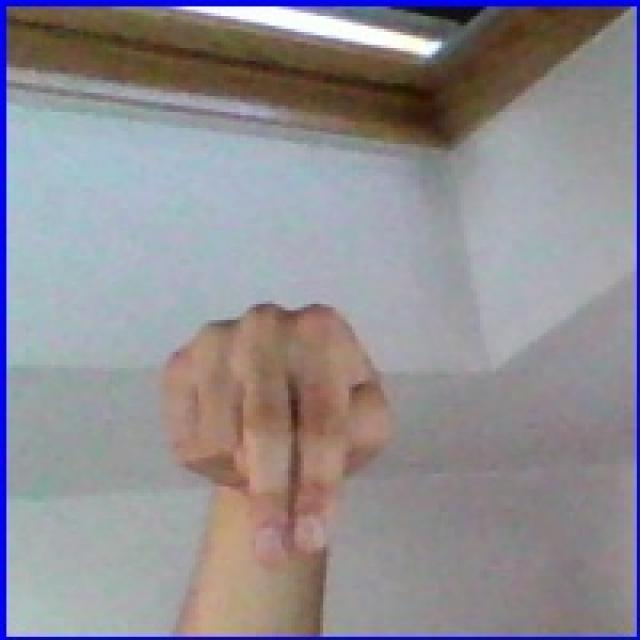Letra-N: (126, 271, 426, 640)
